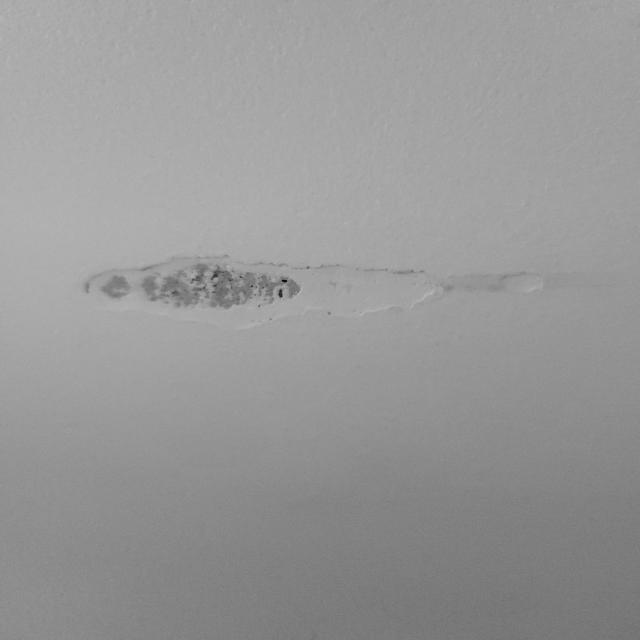rough and patchy surface: (51, 199, 594, 397)
